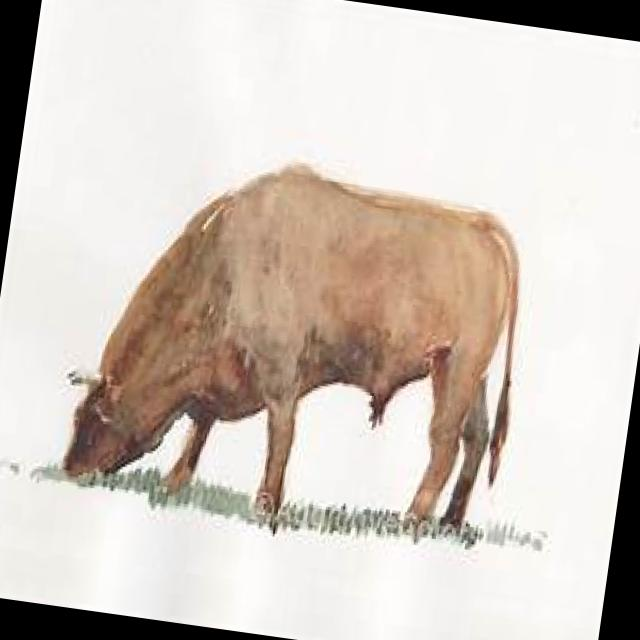animal: (57, 139, 538, 561)
